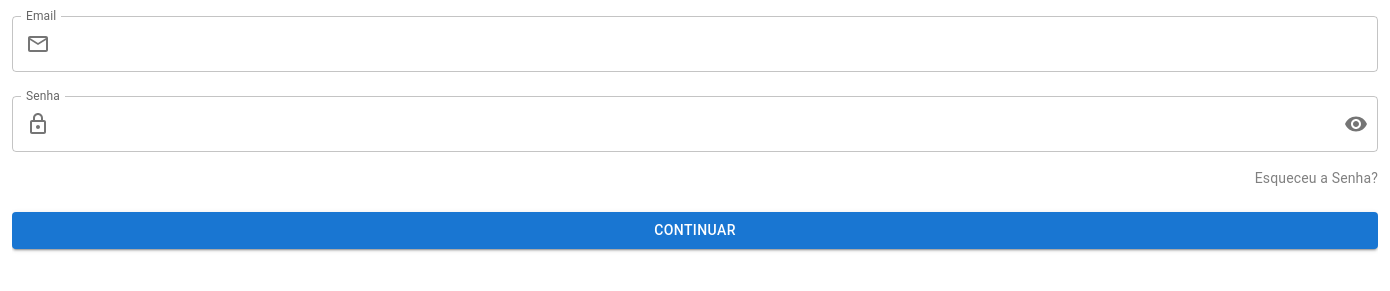
Test: LoginForm › rejects malicious input (XSS/SQLi)
Type "<script>alert(1)</script>" into the field labelled "Email" at (718, 44), box x1=58 y1=16 x2=1378 y2=72
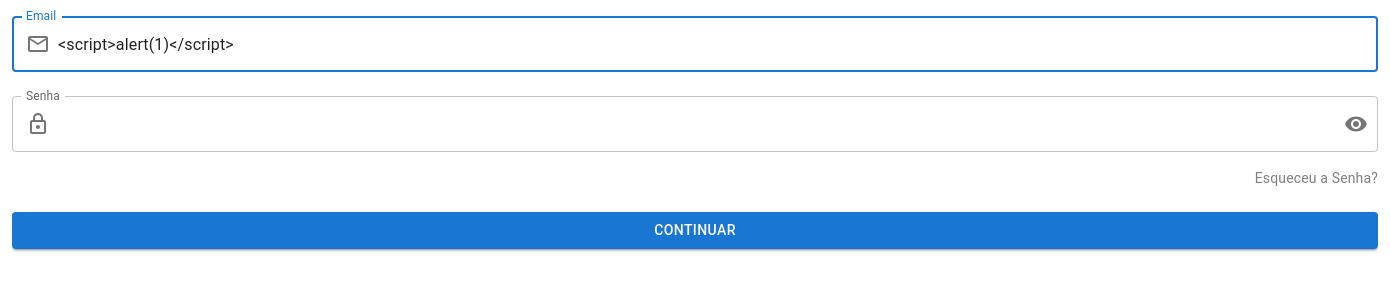
Type "' OR '1'='1" into the password field labelled "Senha" at (693, 124), box x1=58 y1=96 x2=1328 y2=152
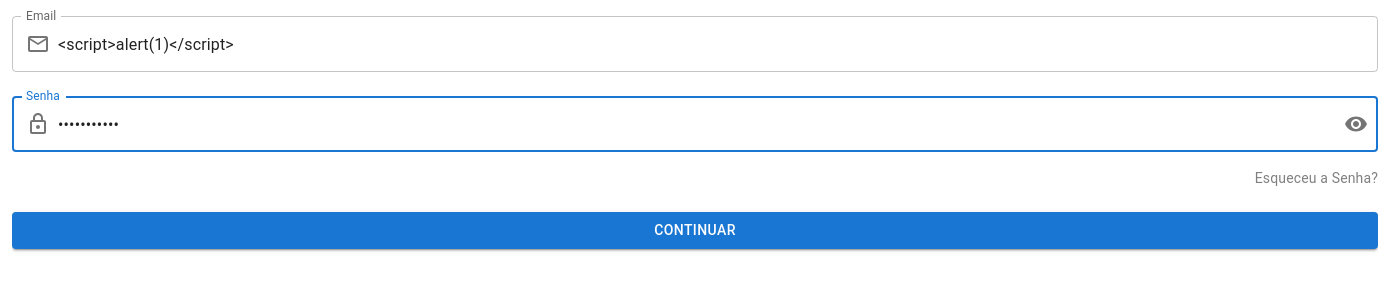
Click the button "CONTINUAR" at (695, 230), box x1=12 y1=212 x2=1378 y2=248
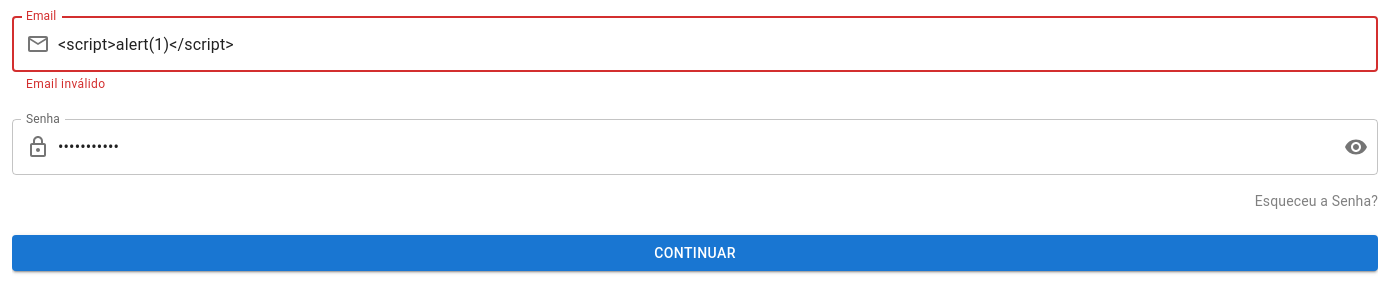
Expected: the text "Email inválido" is shown, x1=26 y1=77 x2=106 y2=91
